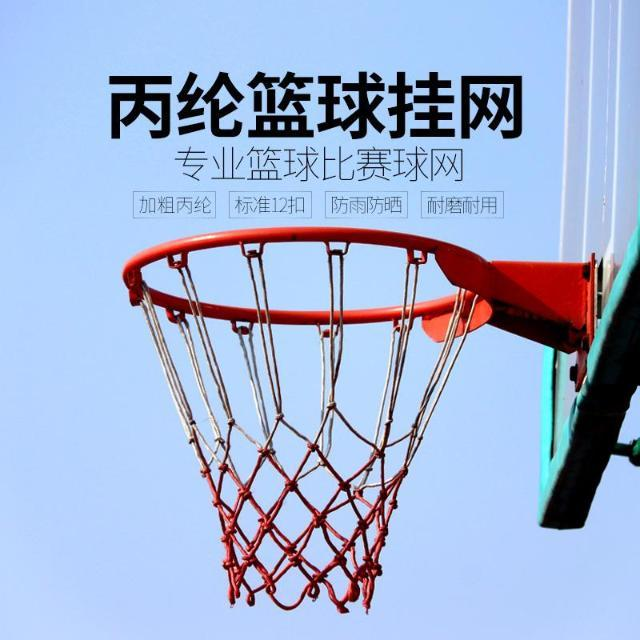rim: (126, 225, 490, 609)
